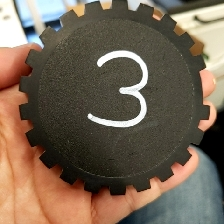gear: (17, 1, 213, 196)
missing: (190, 52, 211, 122)
